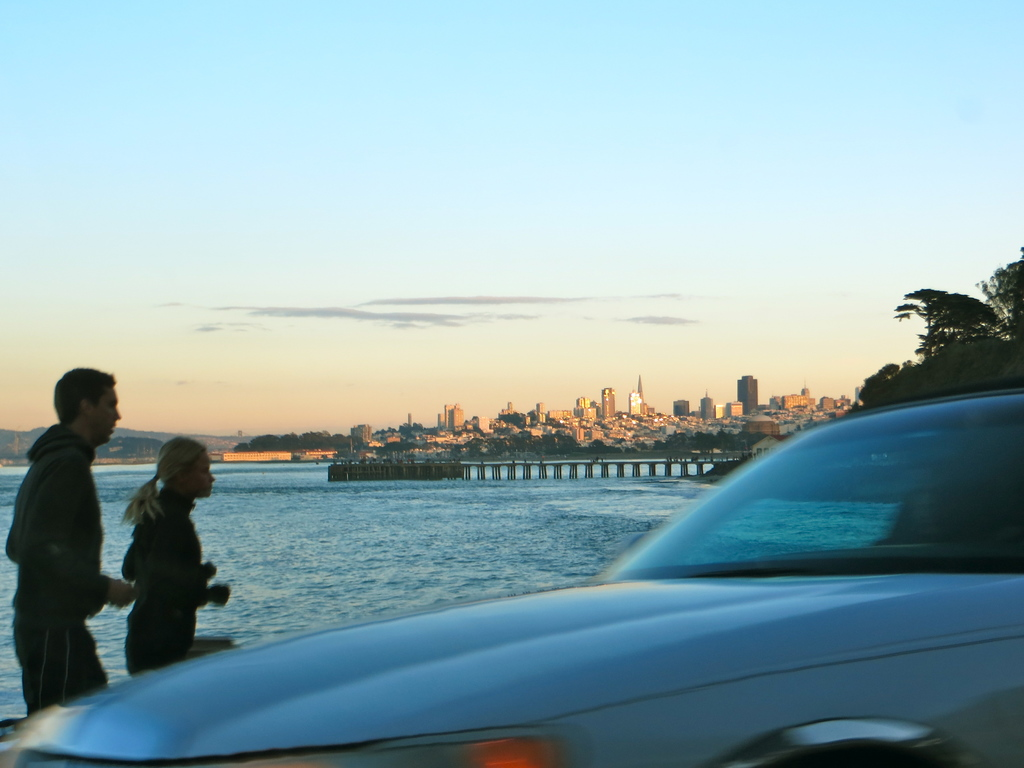Car: (26, 366, 1020, 768)
